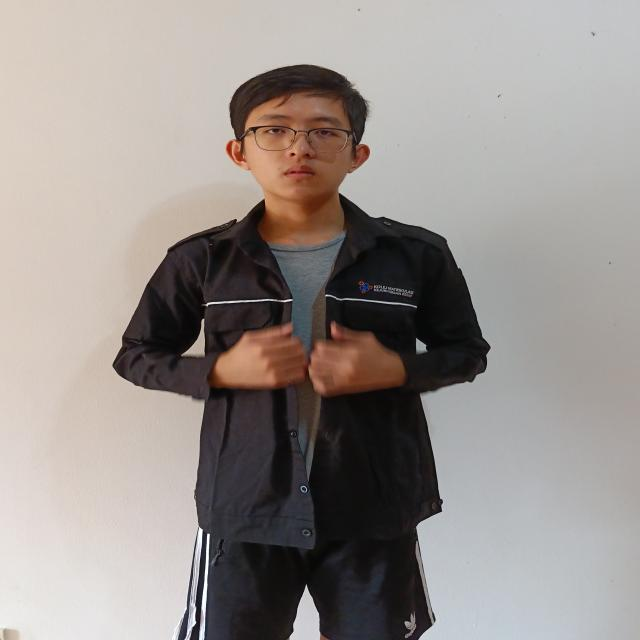person_with_labcoat: (114, 65, 489, 640)
